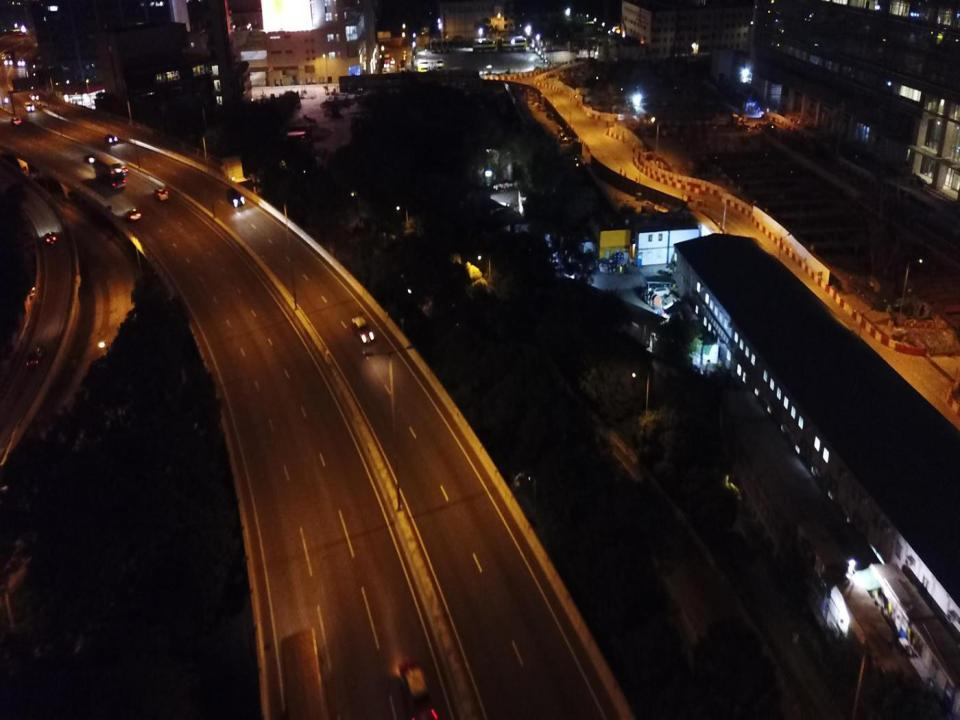bus: (93, 153, 126, 189), (418, 58, 444, 74), (472, 38, 498, 52), (502, 37, 527, 50), (384, 53, 390, 67), (390, 57, 395, 65)
car: (396, 659, 436, 719), (350, 316, 374, 346), (226, 188, 244, 207), (649, 284, 670, 299), (127, 208, 142, 221), (115, 161, 128, 176), (45, 231, 57, 243), (104, 134, 117, 144), (83, 154, 96, 164), (10, 117, 21, 126), (29, 93, 40, 100), (17, 57, 25, 66), (1, 53, 7, 60)
truck: (4, 47, 15, 65)
van: (26, 346, 41, 368), (153, 186, 168, 200), (24, 102, 34, 112), (382, 66, 389, 74)
